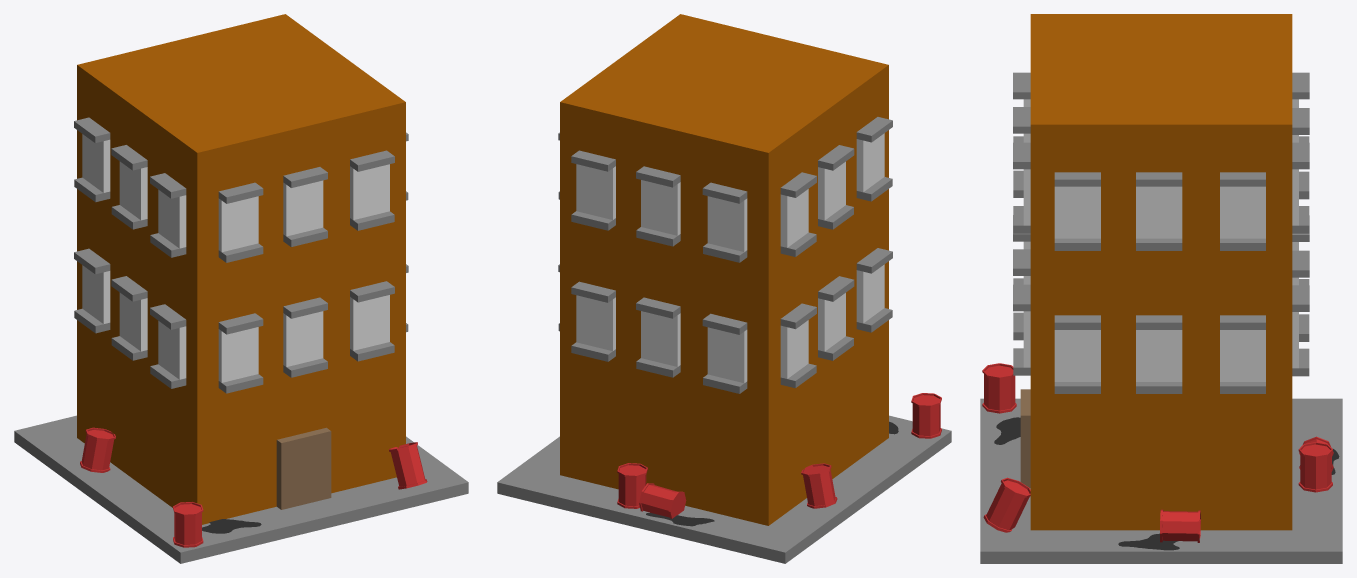
The model's file is Building1_Bad.fbx.
3 views of the same model, side by side, from view 1: azimuth 30°, elevation 25°; view 2: azimuth 150°, elevation 25°; view 3: azimuth 270°, elevation 25° (orthographic). The views are drawn at different scales.
Parts seen in each view (by area): view 1: Building1_Bad; view 2: Building1_Bad; view 3: Building1_Bad.
Boxes of the visible parts, <box> form: Building1_Bad: <box>14,14,468,563</box>; Building1_Bad: <box>497,14,951,563</box>; Building1_Bad: <box>980,14,1342,563</box>.
Bounding box in the file's own units: 5.79 × 7.39 × 5.79.
